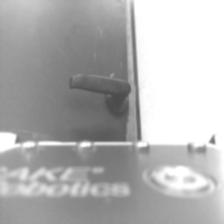Door Handle: (68, 73, 132, 121)
